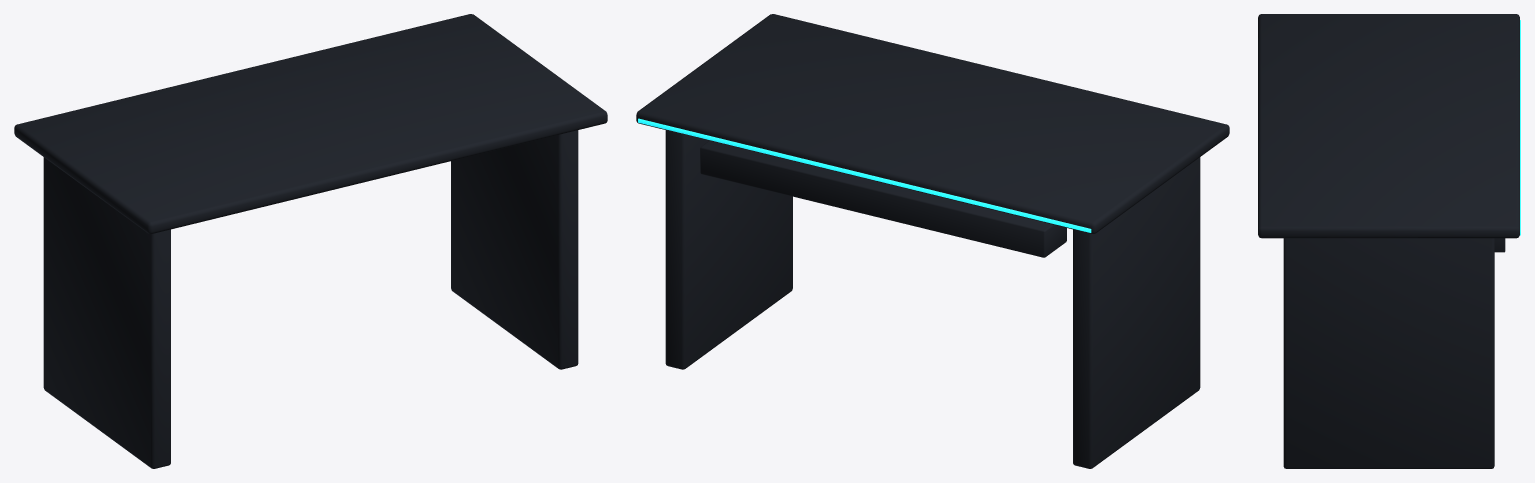
Rendered from gaming-desk-7f51655e4f10.glb.
3 renders of one model, left to right at view 1: azimuth 30°, elevation 25°; view 2: azimuth 150°, elevation 25°; view 3: azimuth 270°, elevation 25°, orthographic. The views are drawn at different scales.
Visible parts, largest first — view 1: Mesh_Matte_Carbon; view 2: Mesh_Matte_Carbon, Edge_LED; view 3: Mesh_Matte_Carbon.
Boxes of the visible parts, x1,y1,x2,y2 form: Mesh_Matte_Carbon: [14, 14, 607, 468]; Mesh_Matte_Carbon: [636, 14, 1229, 468]; Edge_LED: [638, 118, 1091, 232]; Mesh_Matte_Carbon: [1258, 14, 1519, 468].
Size of the model in its own units: 1.4 by 0.758 by 0.7225.
